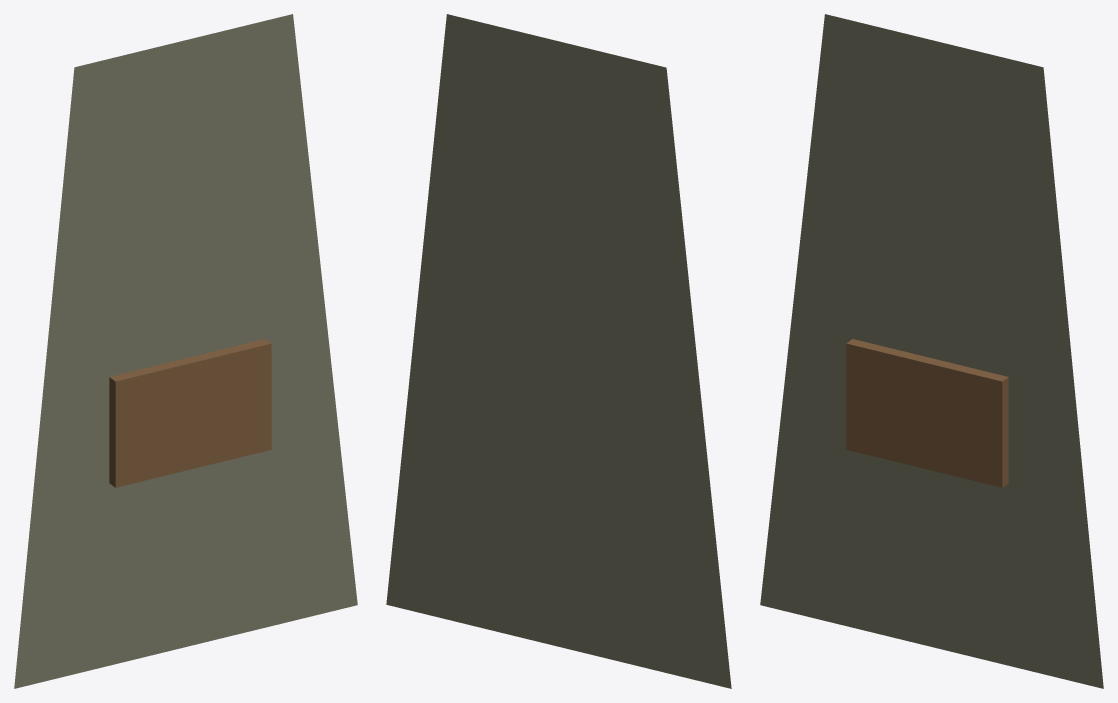
The model's file is NPC_Back_03_Apron.glb.
3 renders of one model, left to right at view 1: azimuth 30°, elevation 25°; view 2: azimuth 150°, elevation 25°; view 3: azimuth 330°, elevation 25°, orthographic.
Visible parts, largest first — view 1: NPC_Back_03_Apron; view 2: NPC_Back_03_Apron; view 3: NPC_Back_03_Apron.
Part boxes in pixels (left/top/right/bottom): NPC_Back_03_Apron: left=14, top=14, right=357, bottom=688; NPC_Back_03_Apron: left=386, top=14, right=731, bottom=688; NPC_Back_03_Apron: left=760, top=14, right=1103, bottom=688.
Size of the model in its own units: 0.44 by 0.74 by 0.022.
